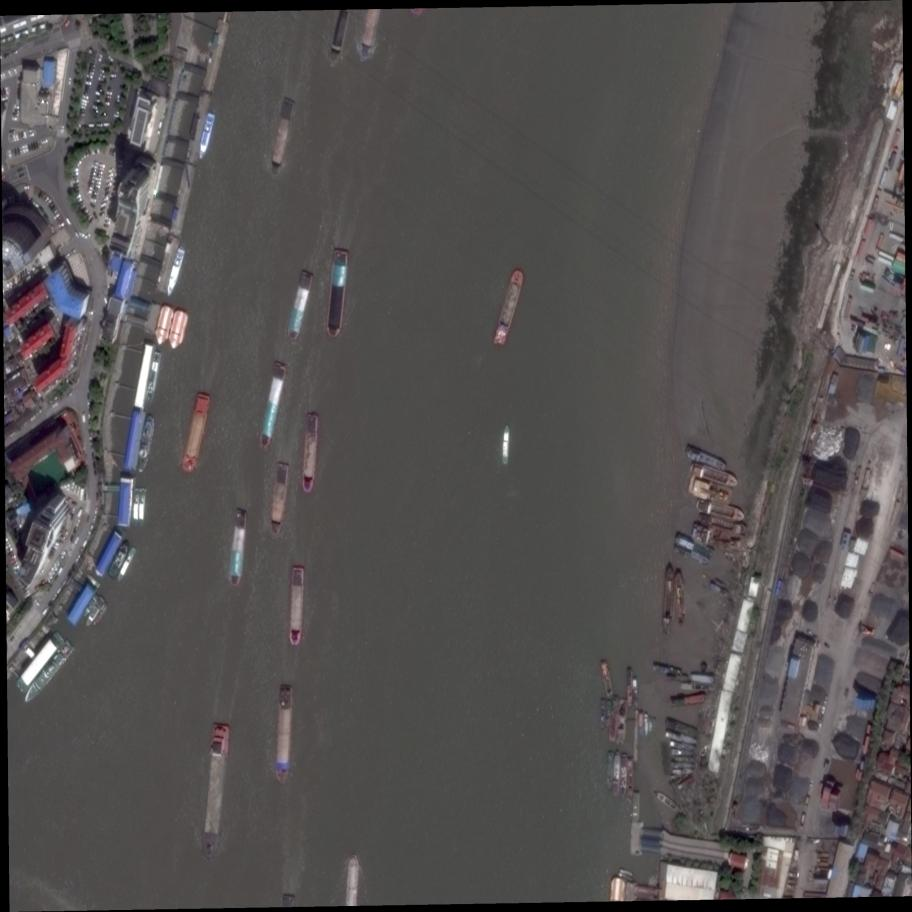ship: (201, 724, 229, 860), (21, 640, 77, 707), (13, 630, 67, 695), (257, 362, 288, 452), (492, 268, 526, 349), (180, 393, 211, 474), (286, 270, 315, 342), (326, 249, 349, 338), (270, 98, 296, 167), (275, 685, 293, 783), (686, 474, 736, 508), (688, 461, 740, 490), (229, 508, 248, 587), (269, 463, 289, 537), (695, 498, 747, 524), (302, 415, 319, 494), (358, 7, 381, 61), (289, 568, 305, 645), (328, 9, 350, 64), (104, 539, 134, 579), (684, 446, 728, 473), (136, 414, 156, 473), (697, 513, 748, 536), (165, 245, 186, 298), (152, 303, 176, 349), (144, 350, 163, 406), (167, 308, 190, 353), (674, 534, 715, 559), (661, 566, 675, 635), (197, 111, 216, 161), (672, 544, 712, 567), (115, 546, 138, 584), (345, 853, 361, 907), (664, 717, 701, 739), (652, 790, 682, 815), (85, 596, 106, 628), (674, 572, 686, 624), (616, 698, 628, 745), (665, 729, 698, 746), (599, 661, 614, 698), (608, 696, 620, 742), (670, 694, 707, 708), (83, 594, 101, 619), (612, 751, 622, 796), (652, 664, 682, 677), (619, 753, 628, 796), (93, 602, 109, 626), (502, 424, 511, 465), (606, 751, 615, 790), (626, 757, 634, 799), (679, 682, 715, 691), (133, 488, 141, 527), (670, 740, 696, 751), (139, 487, 146, 526), (691, 674, 715, 685), (627, 669, 633, 707), (600, 699, 606, 731), (605, 700, 611, 730), (672, 749, 694, 757), (671, 762, 695, 769), (675, 756, 694, 764), (672, 769, 694, 775), (639, 714, 644, 740), (644, 713, 649, 736), (649, 716, 653, 734), (653, 717, 657, 734)
